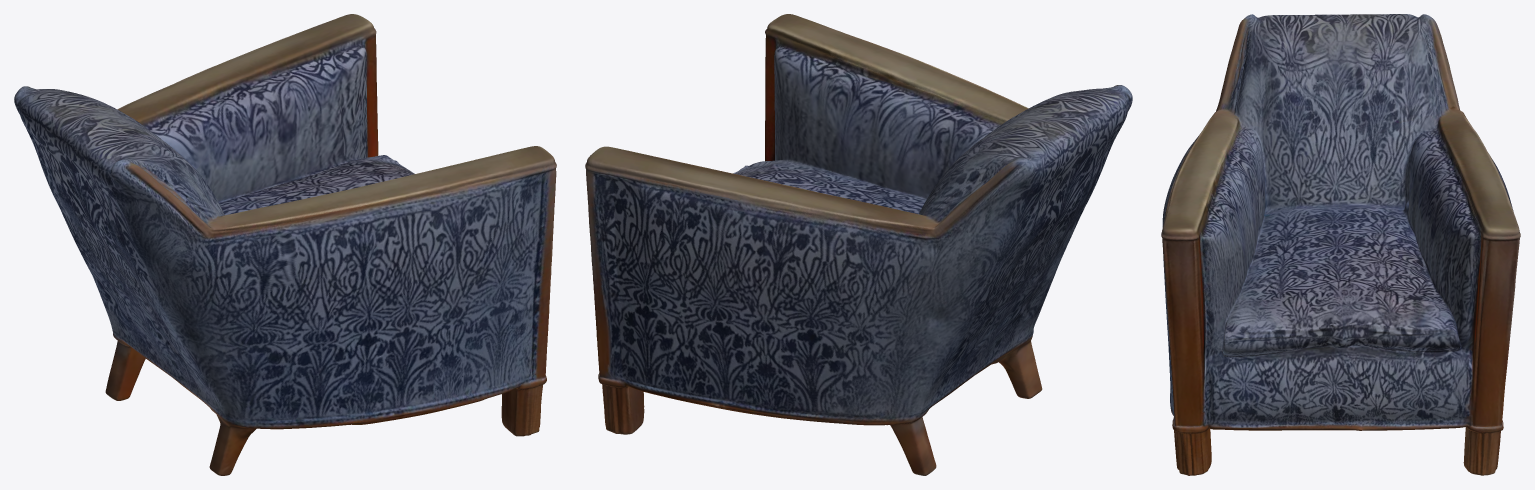
File: clubArtDeco.glb
3 renders of one model, left to right at view 1: azimuth 30°, elevation 25°; view 2: azimuth 150°, elevation 25°; view 3: azimuth 270°, elevation 25°, orthographic. The views are drawn at different scales.
Visible parts, largest first — view 1: tripo_node_c69397c7-a1ba-49fa-987d-949efd7b2493; view 2: tripo_node_c69397c7-a1ba-49fa-987d-949efd7b2493; view 3: tripo_node_c69397c7-a1ba-49fa-987d-949efd7b2493.
Part boxes in pixels (x1,y1,x2,y2): tripo_node_c69397c7-a1ba-49fa-987d-949efd7b2493: [14, 14, 556, 475]; tripo_node_c69397c7-a1ba-49fa-987d-949efd7b2493: [585, 14, 1132, 475]; tripo_node_c69397c7-a1ba-49fa-987d-949efd7b2493: [1161, 14, 1520, 475].
Bounding box in the file's own units: 1 × 0.806 × 0.8746.
1 material, 1 textured.
